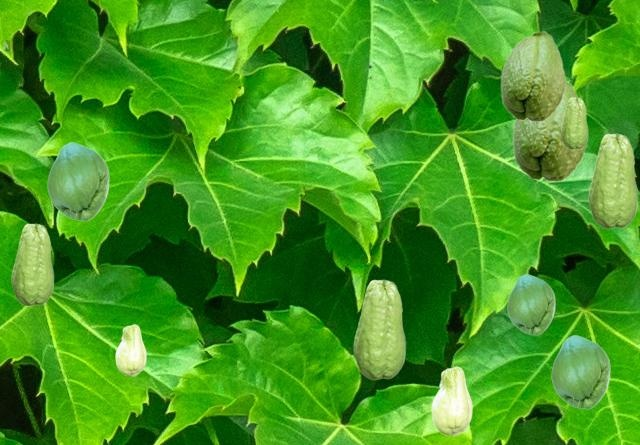sayote: (512, 79, 587, 181), (500, 30, 565, 121), (353, 279, 405, 379), (47, 142, 108, 220), (588, 133, 637, 228), (551, 335, 609, 408), (11, 223, 53, 305), (507, 274, 554, 334), (431, 366, 471, 435), (115, 324, 145, 375), (561, 97, 587, 148)
